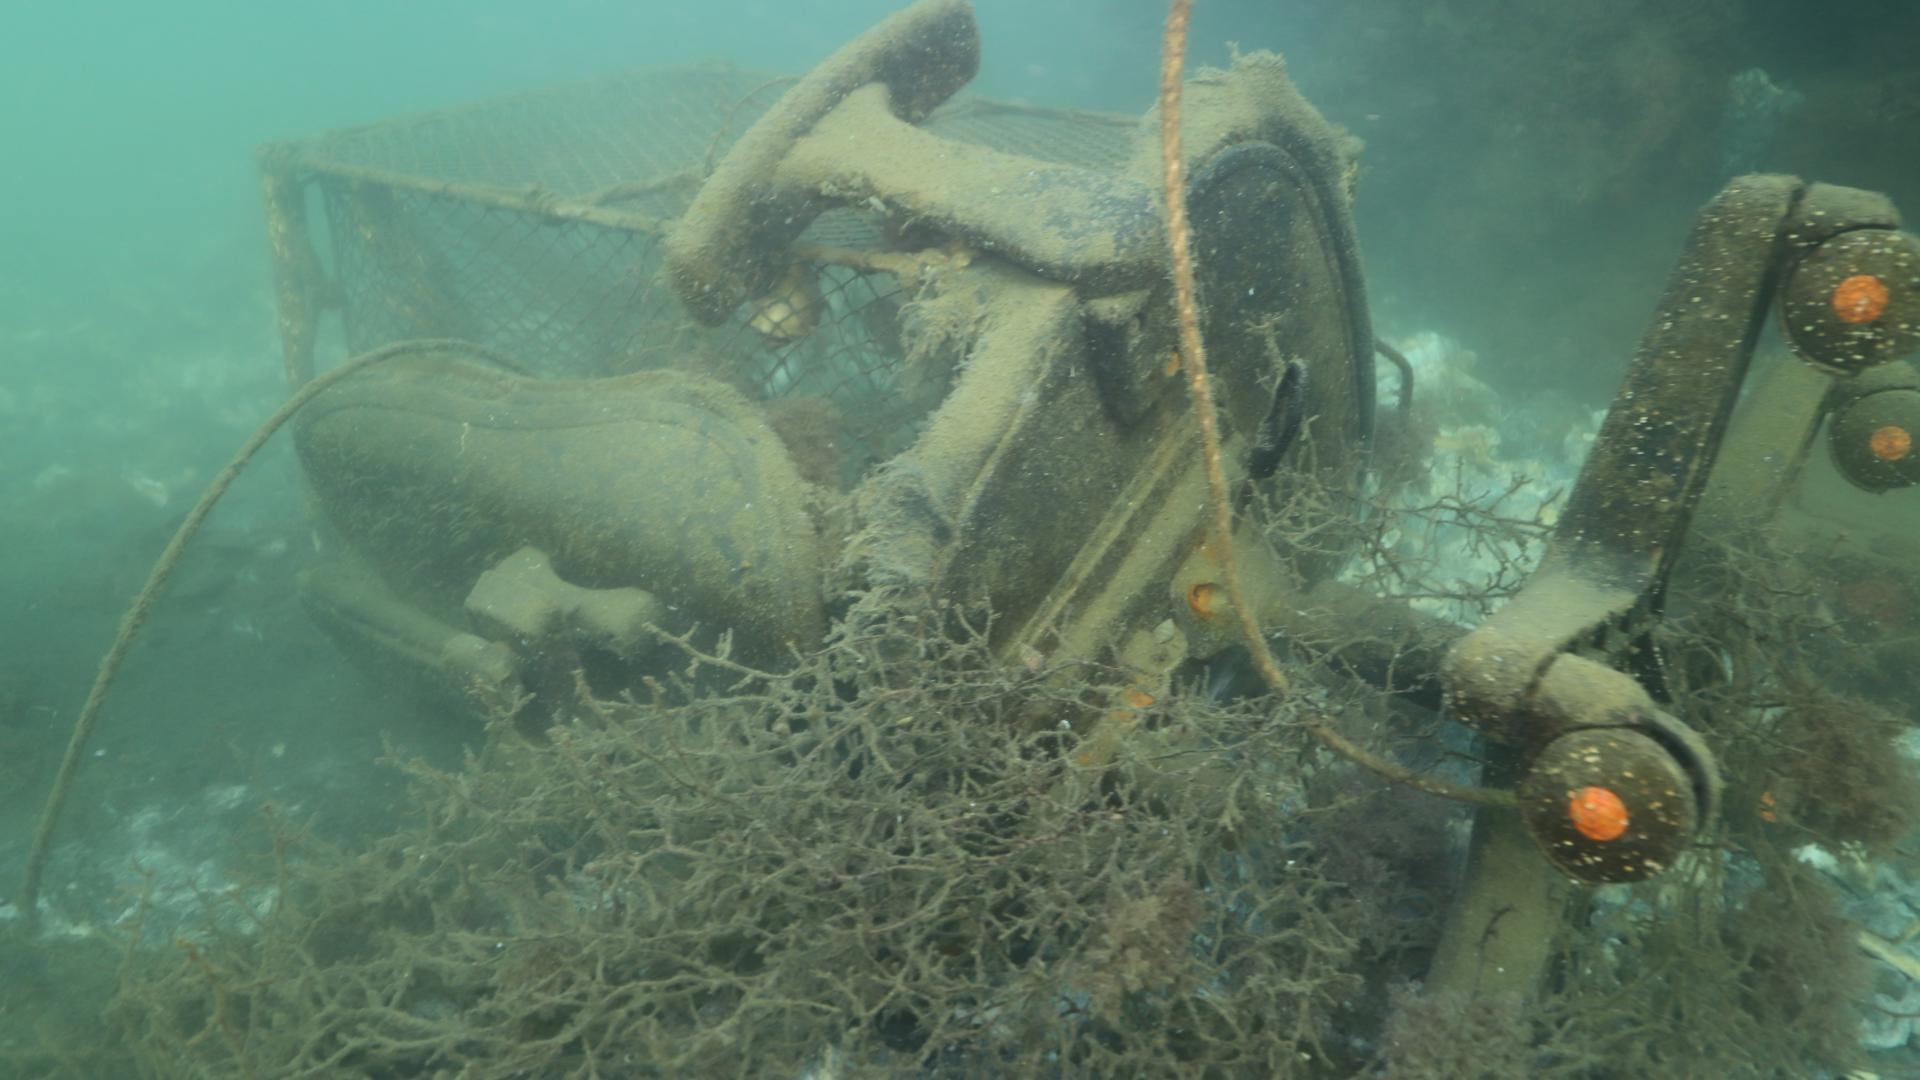rectangular fish trap: (252, 59, 1146, 491)
rope: (18, 335, 551, 930), (1159, 0, 1524, 811)
